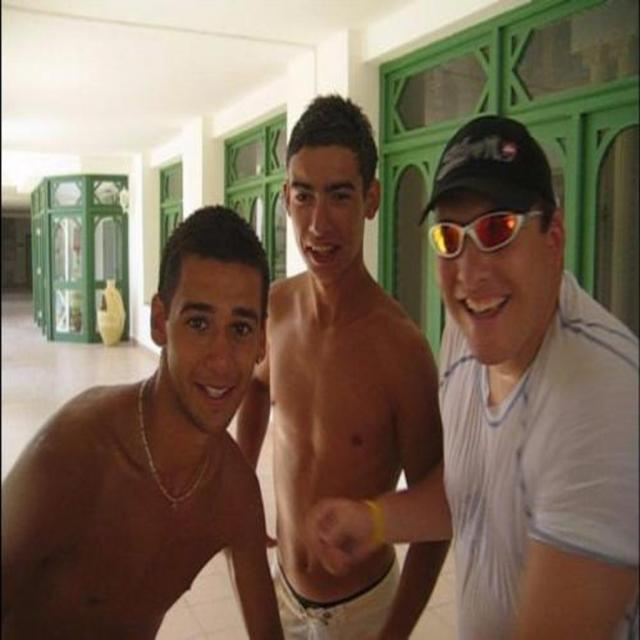nomask: (437, 159, 538, 360), (170, 248, 258, 429), (285, 136, 360, 282)
